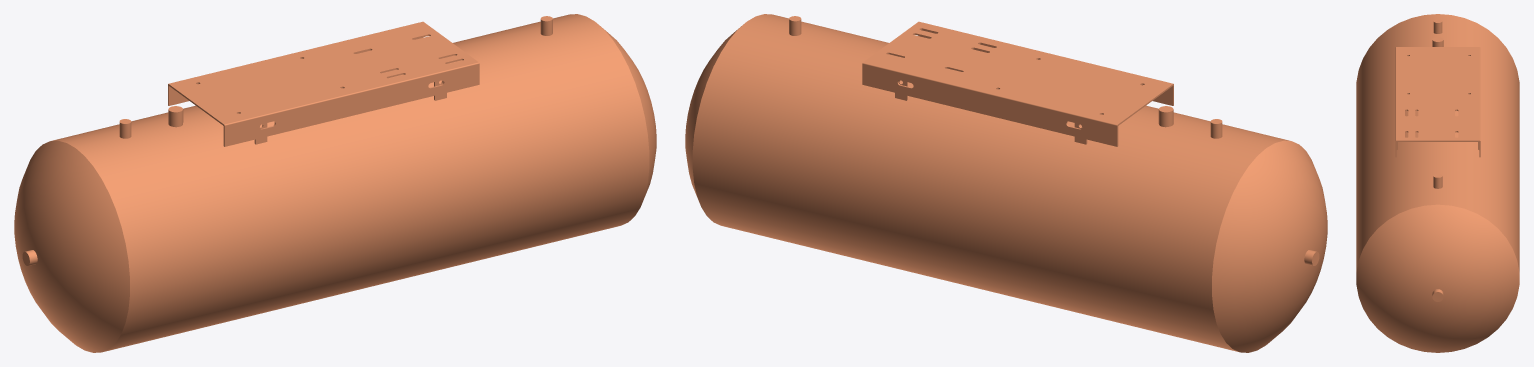
File: tank.glb
3 views of the same model, side by side, from view 1: azimuth 30°, elevation 25°; view 2: azimuth 150°, elevation 25°; view 3: azimuth 270°, elevation 25° (orthographic). The views are drawn at different scales.
Parts seen in each view (by area): view 1: TANQUE, TANQUE-BASE; view 2: TANQUE, TANQUE-BASE; view 3: TANQUE, TANQUE-BASE.
Boxes of the visible parts, x1=… form: TANQUE: x1=14, y1=14, x2=656, y2=352; TANQUE-BASE: x1=168, y1=21, x2=479, y2=146; TANQUE: x1=685, y1=14, x2=1327, y2=352; TANQUE-BASE: x1=862, y1=21, x2=1173, y2=146; TANQUE: x1=1356, y1=14, x2=1519, y2=352; TANQUE-BASE: x1=1395, y1=47, x2=1480, y2=157.
Size of the model in its own units: 1.32 by 0.4327 by 0.4013.
